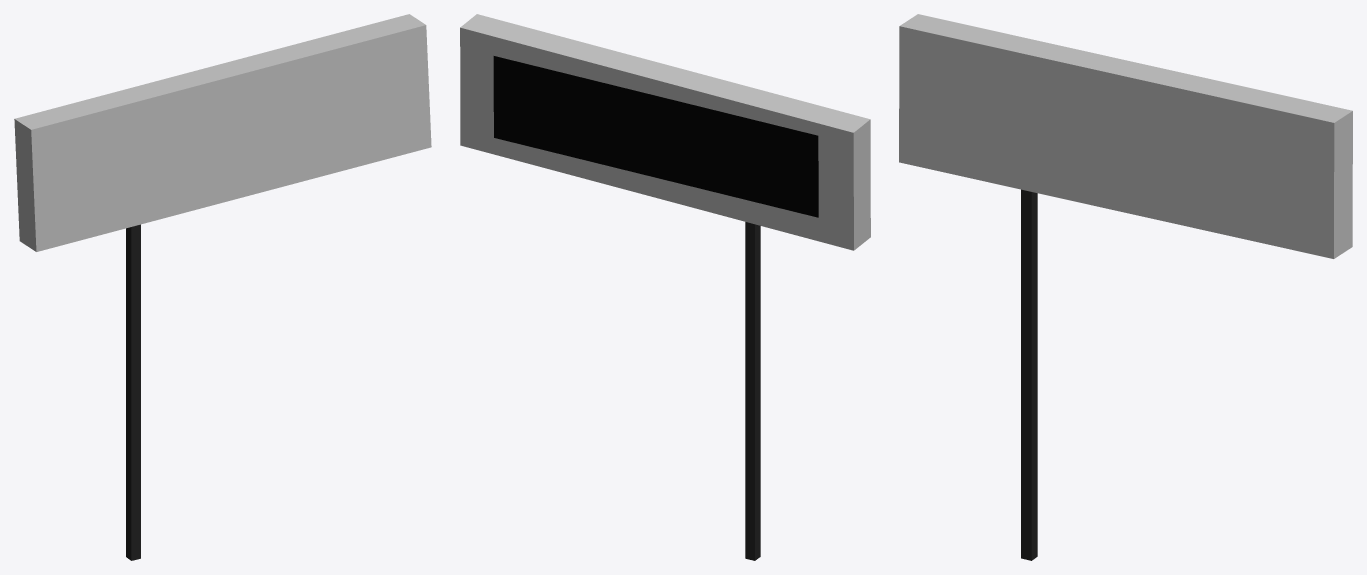
The model's file is s230Sign.obj.
3 views of the same model, side by side, from view 1: azimuth 30°, elevation 25°; view 2: azimuth 150°, elevation 25°; view 3: azimuth 330°, elevation 25° (orthographic). The views are drawn at different scales.
Parts seen in each view (by area): view 1: Cube.002, Cube.001; view 2: Cube.002, Plane, Cube.001; view 3: Cube.002, Cube.001.
Part boxes in pixels (x1=…): Cube.002: x1=14, y1=14, x2=431, y2=251; Cube.001: x1=126, y1=224, x2=140, y2=560; Cube.002: x1=460, y1=14, x2=870, y2=250; Plane: x1=493, y1=56, x2=818, y2=217; Cube.001: x1=745, y1=222, x2=760, y2=560; Cube.002: x1=899, y1=14, x2=1352, y2=258; Cube.001: x1=1021, y1=189, x2=1037, y2=560.
Size of the model in its own units: 8.07 by 9.11 by 0.8.
